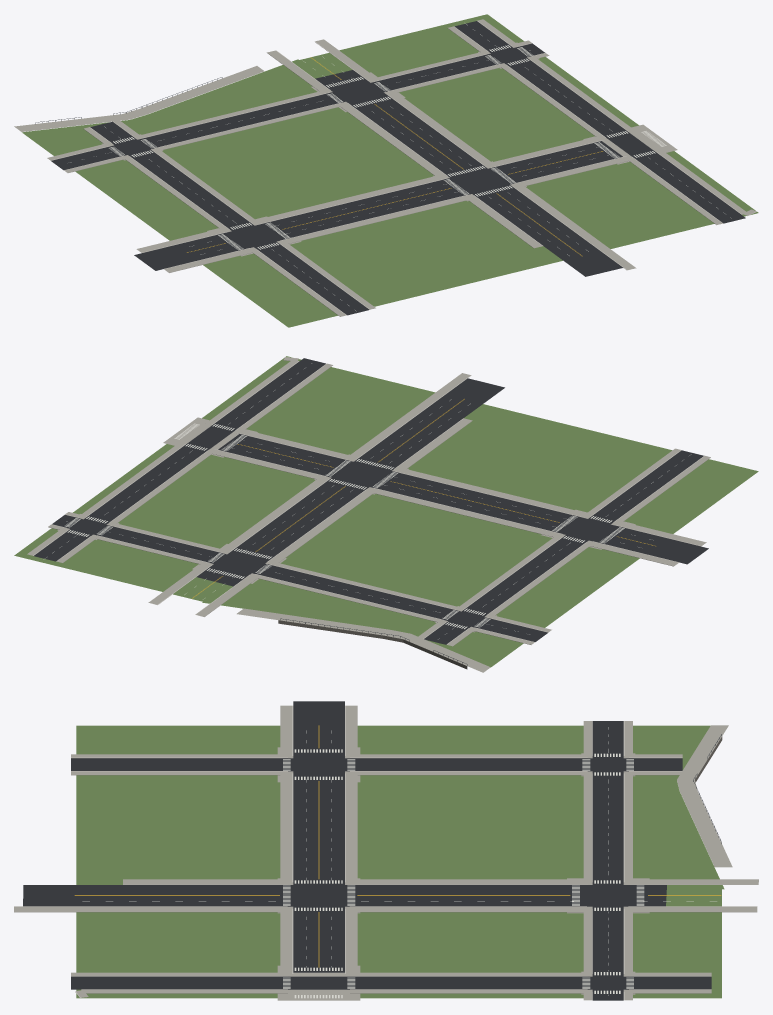
File: Ground_2_1.fbx
The picture shows the model from 3 angles, top to bottom: view 1: azimuth 30°, elevation 25°; view 2: azimuth 150°, elevation 25°; view 3: azimuth 270°, elevation 25°; orthographic projection. The views are drawn at different scales.
Visible parts, largest first — view 1: Ground_2_1; view 2: Ground_2_1; view 3: Ground_2_1.
Boxes of the visible parts, left/top/right/bottom form: Ground_2_1: left=14, top=14, right=758, bottom=327; Ground_2_1: left=14, top=356, right=758, bottom=672; Ground_2_1: left=14, top=701, right=758, bottom=1000.
Size of the model in its own units: 274 by 2.65 by 288.
